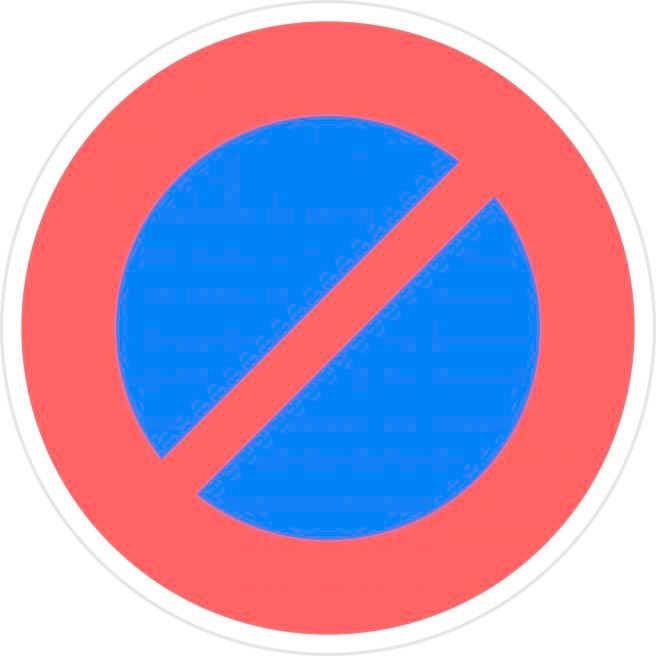Prohibition_sign: (1, 1, 648, 654)
